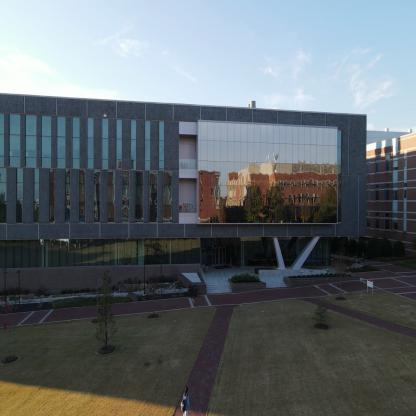EB-1: (372, 118, 416, 278)
Fitts- Woolard: (1, 72, 369, 330)
